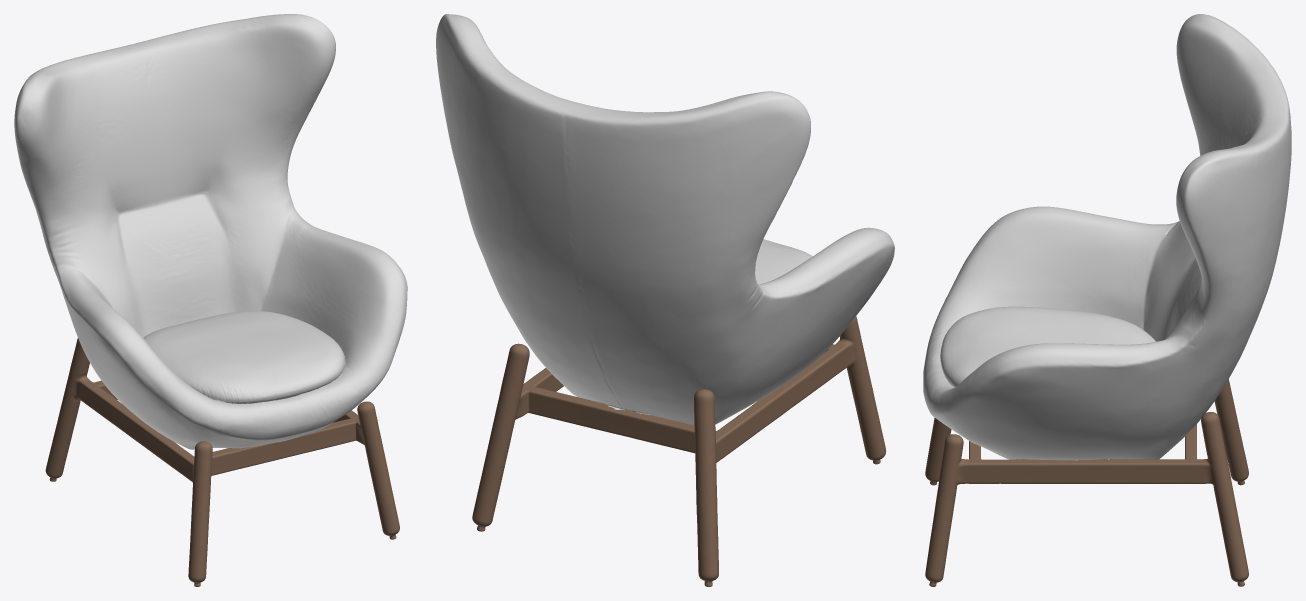
The model's file is SBH_ELKE.glb.
3 renders of one model, left to right at view 1: azimuth 30°, elevation 25°; view 2: azimuth 150°, elevation 25°; view 3: azimuth 270°, elevation 25°, orthographic. The views are drawn at different scales.
Parts seen in each view (by area): view 1: ELKE; view 2: ELKE; view 3: ELKE.
Boxes of the visible parts, left/top/right/bottom form: ELKE: left=14, top=14, right=407, bottom=586; ELKE: left=436, top=14, right=894, bottom=586; ELKE: left=923, top=14, right=1291, bottom=586.
Bounding box in the file's own units: 0.8647 × 1.09 × 0.81.
